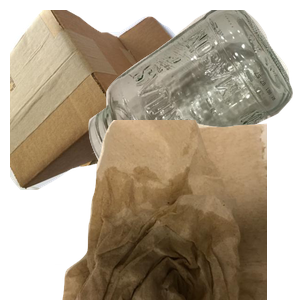cardboard: (10, 10, 206, 190)
glass: (86, 10, 300, 184)
plastic: (55, 120, 284, 300)
trash: (60, 120, 300, 300)
